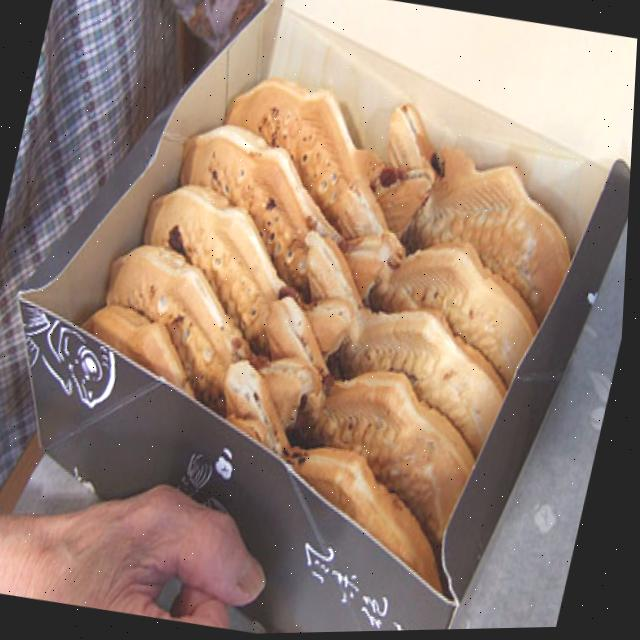熟制海鲜: (37, 0, 627, 621)
